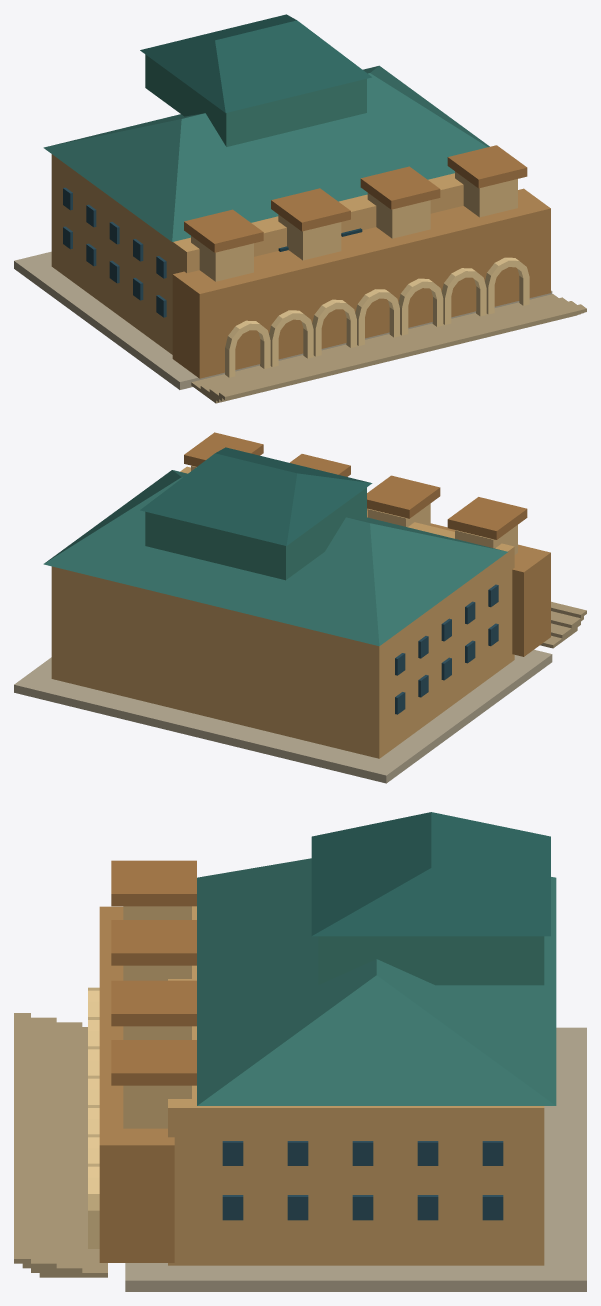
The model's file is teatro-colon.glb.
The picture shows the model from 3 angles, top to bottom: view 1: azimuth 30°, elevation 25°; view 2: azimuth 150°, elevation 25°; view 3: azimuth 270°, elevation 25°; orthographic projection. The views are drawn at different scales.
Visible parts, largest first — view 1: roof, body_C4AF89, body_D6C19A, base_C0B294, body_BDA883, body_E3CFAB, roof_72857C, body_DEC9A2, base_B8B49D, detail_63716A; view 2: body_D6C19A, roof, base_B8B49D, roof_72857C, body_BDA883, body_C4AF89, detail_63716A, body_DEC9A2, base_C0B294; view 3: roof, body_D6C19A, base_B8B49D, base_C0B294, body_BDA883, body_C4AF89, roof_72857C, detail_63716A, body_DEC9A2, body_E3CFAB.
Boxes of the visible parts, x1,y1,x2,y2 form: roof: (43, 14, 489, 241); body_C4AF89: (172, 188, 550, 378); body_D6C19A: (51, 154, 463, 354); base_C0B294: (191, 294, 586, 403); body_BDA883: (184, 145, 527, 252); body_E3CFAB: (225, 257, 529, 377); roof_72857C: (145, 54, 366, 146); body_DEC9A2: (191, 171, 517, 281); base_B8B49D: (14, 251, 552, 389); detail_63716A: (63, 187, 166, 317); body_D6C19A: (51, 466, 514, 758); roof: (43, 447, 507, 646); base_B8B49D: (14, 649, 552, 783); roof_72857C: (145, 487, 366, 580); body_BDA883: (184, 432, 527, 539); body_C4AF89: (367, 508, 550, 656); detail_63716A: (395, 584, 498, 714); body_DEC9A2: (191, 465, 517, 554); base_C0B294: (540, 601, 586, 648); roof: (197, 812, 556, 1105); body_D6C19A: (168, 906, 544, 1265); base_B8B49D: (125, 1027, 586, 1291); base_C0B294: (14, 1013, 107, 1277); body_BDA883: (111, 860, 196, 1085); body_C4AF89: (99, 906, 174, 1262); roof_72857C: (318, 936, 544, 985); detail_63716A: (222, 1141, 503, 1220); body_DEC9A2: (123, 906, 191, 1128); body_E3CFAB: (88, 987, 99, 1248).
Bounding box in the file's own units: 1 × 0.6 × 0.9571.
